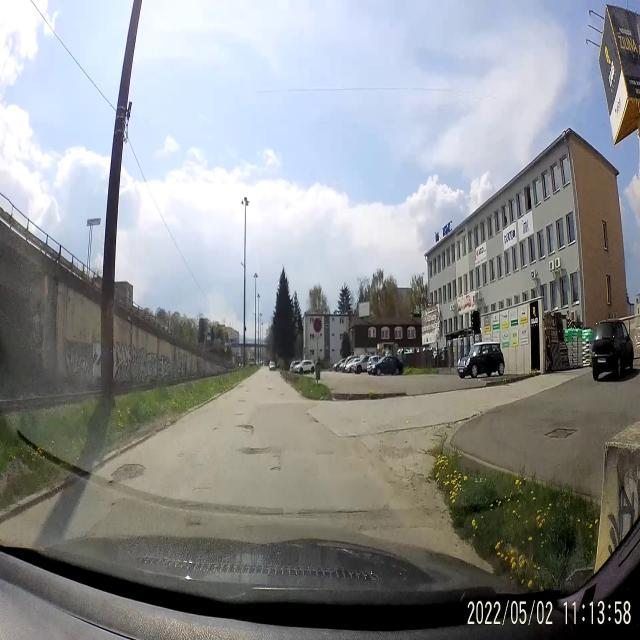Pothole: (111, 452, 147, 496), (240, 441, 278, 461), (234, 414, 254, 436), (268, 464, 288, 484), (307, 412, 320, 424), (212, 424, 220, 432), (238, 398, 248, 403)
